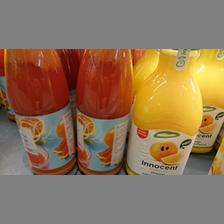Saft: (124, 48, 204, 174), (4, 48, 76, 174), (74, 48, 134, 174)
